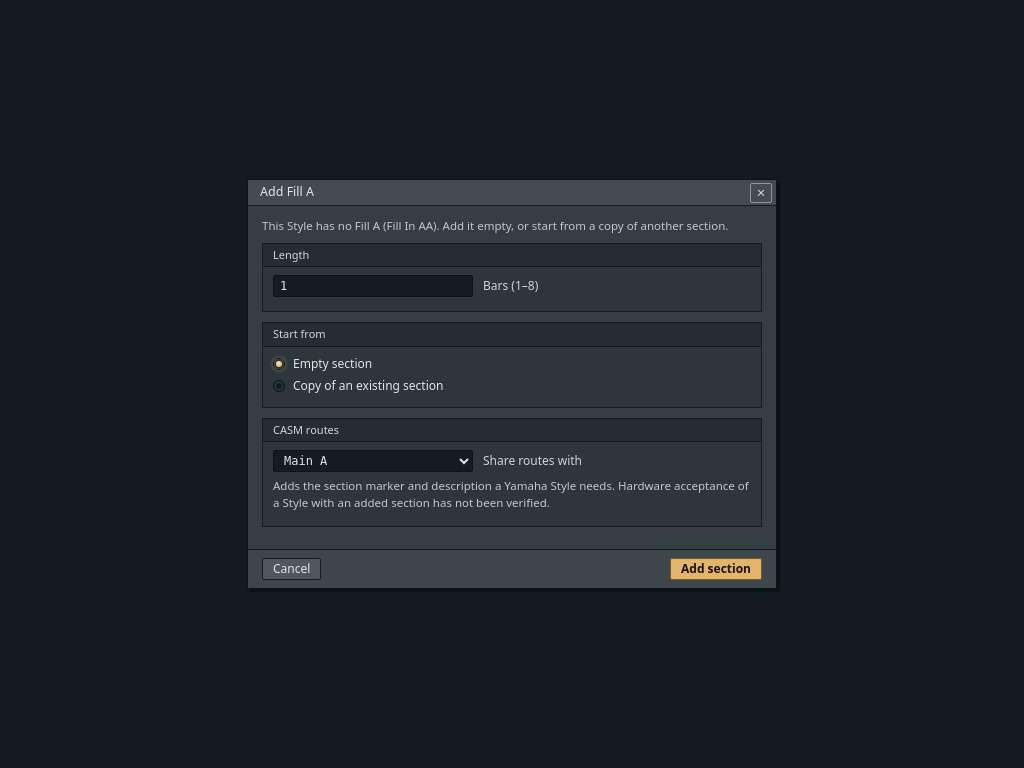
Test case: AddSection dialog › bounds fills and the break to 8 bars and blocks an invalid length
This screenshot has width=1024, height=768.
Replace the text in the number field named "Length in bars" with "9": x=373, y=286 [273,275,473,297]
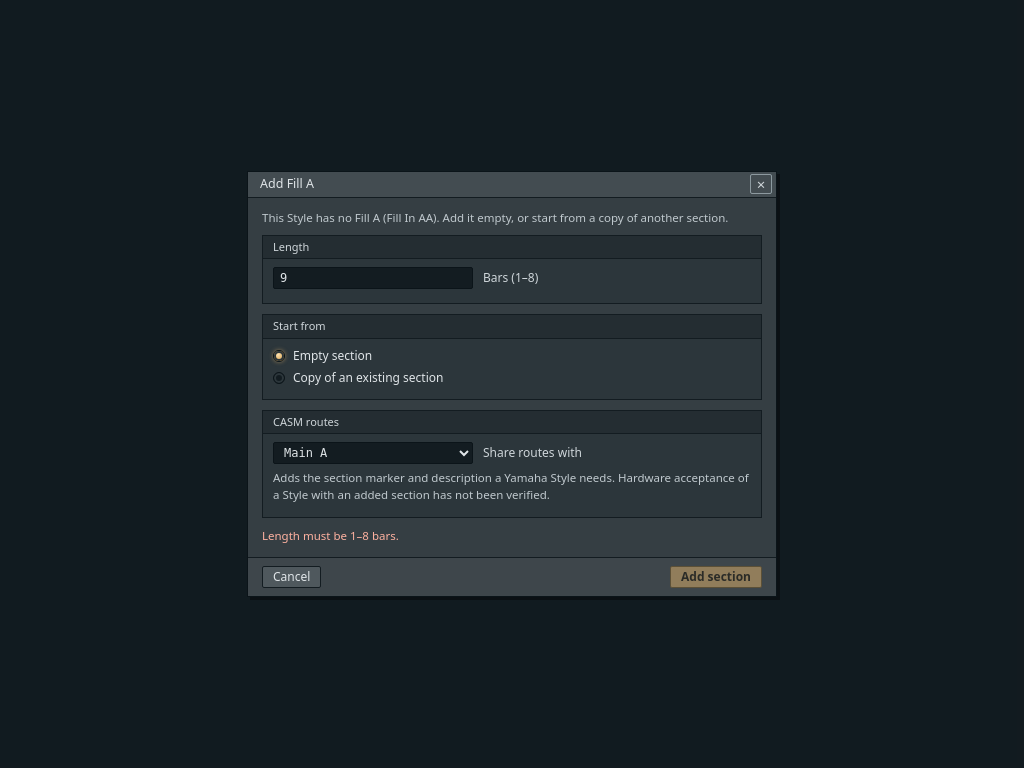
Expected: the button "Add section" is disabled, [670,566,762,588]
Expected: the message shows "1–8 bars", [262,528,399,543]
